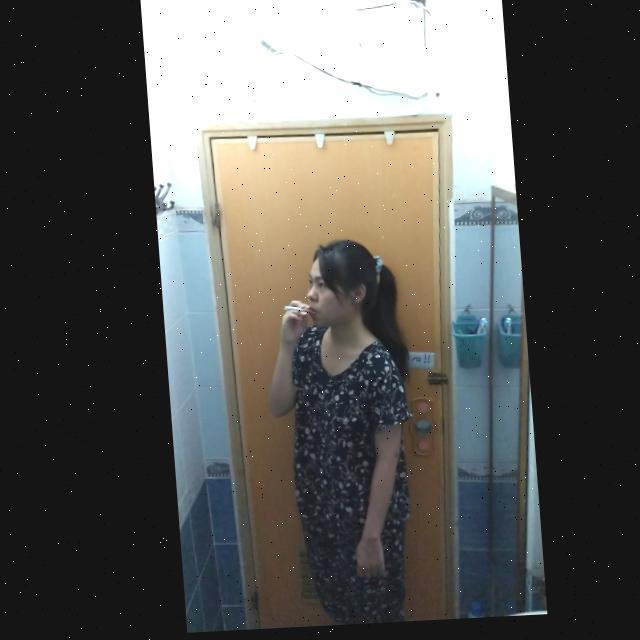cigarette: (279, 308, 307, 316)
